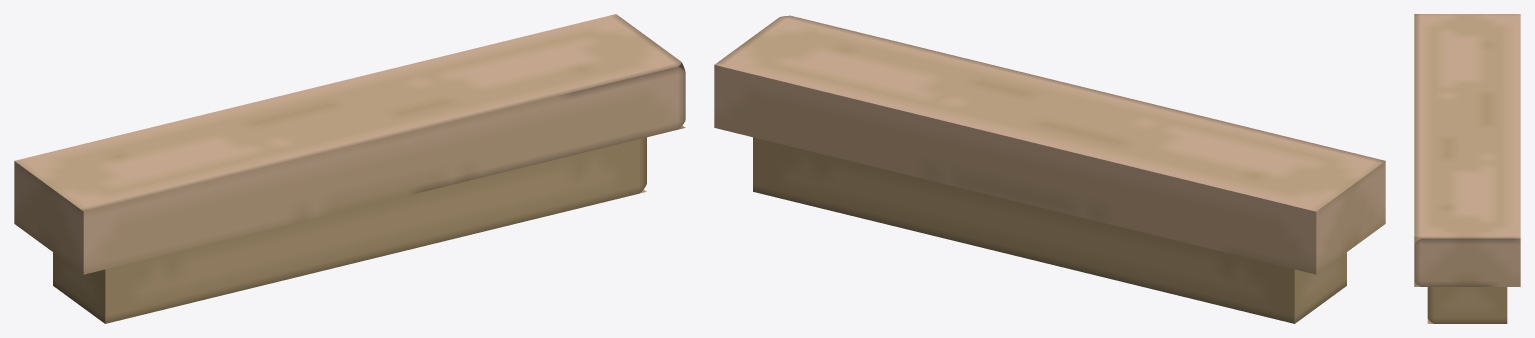
File: PicnicBench.fbx
3 renders of one model, left to right at view 1: azimuth 30°, elevation 25°; view 2: azimuth 150°, elevation 25°; view 3: azimuth 270°, elevation 25°, orthographic. The views are drawn at different scales.
Parts seen in each view (by area): view 1: top, bottom; view 2: top, bottom; view 3: top, bottom.
Boxes of the visible parts, x1,y1,x2,y2 form: top: [14, 14, 685, 274]; bottom: [53, 137, 646, 323]; top: [714, 15, 1385, 274]; bottom: [753, 137, 1346, 323]; top: [1414, 14, 1520, 286]; bottom: [1427, 287, 1507, 323].
Bounding box in the file's own units: 125 × 25 × 25.
1 material, 1 textured.
